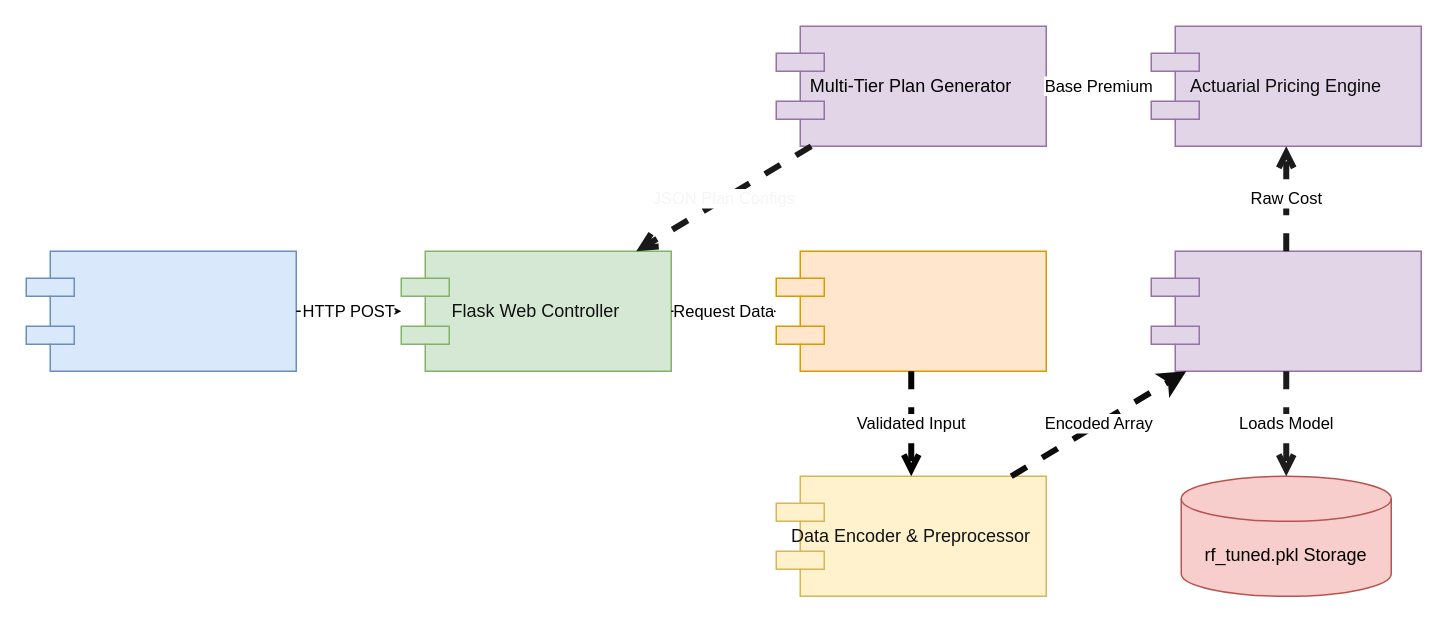
Some shapes in this 1448 by 623 pixel diagram are drawn without their labels. The centre of each missing label's shape, as x and y in pixels:
Input Security & Validation: point (910, 310)
Random Forest Predictor: point (1285, 310)
Web UI Forms & Dashboard: point (160, 310)
